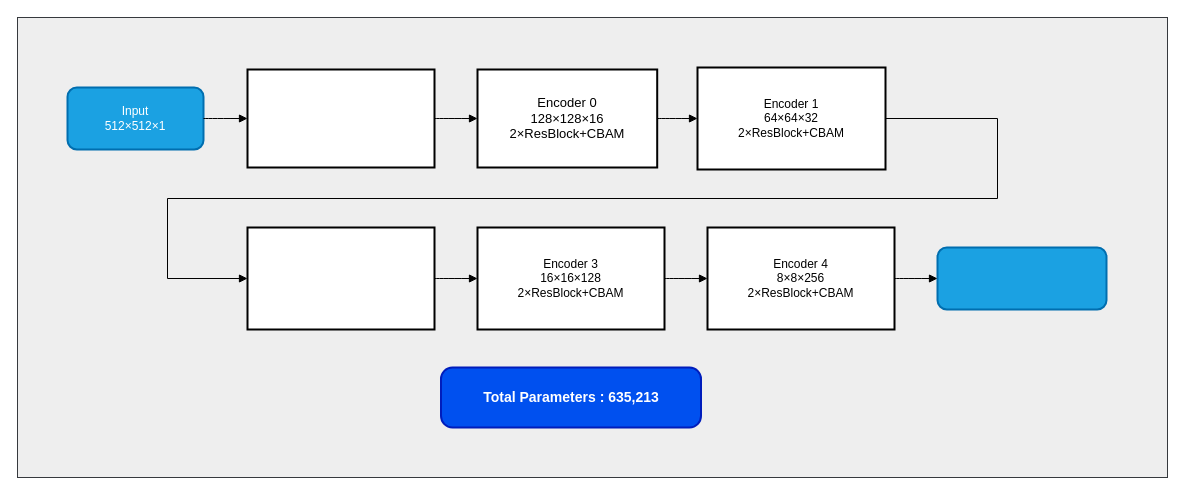
This 1185x495 diagram has some shape labels left out. The centre of each missing label's shape, as x and y in pixels:
"Encoder 2 32×32×64 2×ResBlock+CBAM" goes at (x=340, y=278).
"Global Avg Pool Dense (3)" goes at (x=1021, y=278).
"PConv Block 256×256×16 SepConv+IN+ReLU" goes at (x=340, y=118).
